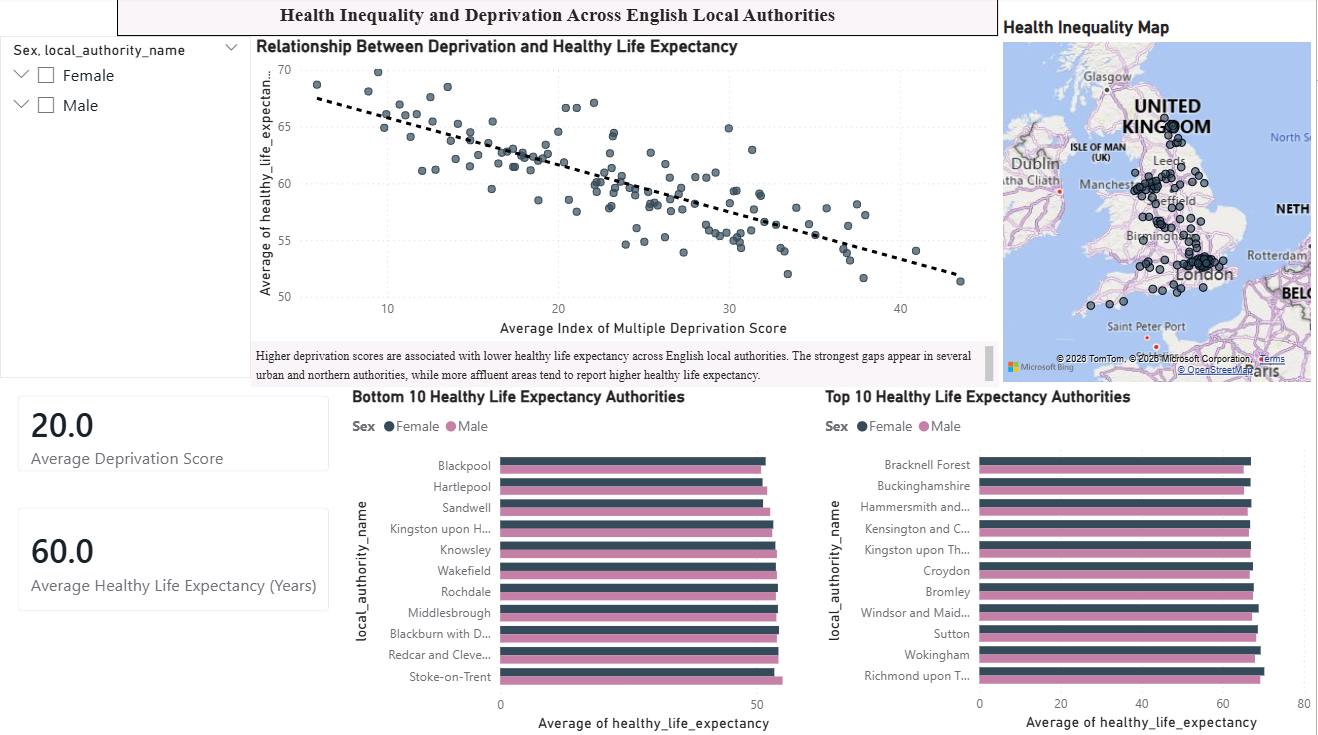

Layout of this report page (visuals, bound fields, positions):
{"tool":"powerbi","page":{"name":"Health Inequality Overview","canvas":[1280,720],"ordinal":0},"visuals":[{"type":"cardVisual","fields":{"Data":["Avg(rpt vw_health_inequality_final.healthy_life_expectancy)"]},"box":[0,479.5,337.5,135.2],"z":0},{"type":"cardVisual","fields":{"Data":["Avg(rpt vw_deprivation_local_authority.avg_imd_score)"]},"box":[0,370.6,337.5,108.9],"z":1000},{"type":"scatterChart","title":"Relationship Between Deprivation and Healthy Life Expectancy","fields":{"X":["rpt vw_deprivation_local_authority.avg_imd_score"],"Y":["Avg(rpt vw_health_inequality_final.healthy_life_expectancy)"]},"box":[244.1,37.9,726.6,296.7],"z":2000},{"type":"clusteredBarChart","title":"Bottom 10 Healthy Life Expectancy Authorities","fields":{"Category":["rpt vw_health_inequality_final.local_authority_name"],"Y":["Avg(rpt vw_health_inequality_final.healthy_life_expectancy)"],"Series":["rpt vw_health_inequality_final.Sex"]},"box":[337.5,379.3,460.1,340.4],"z":3000},{"type":"clusteredBarChart","title":"Top 10 Healthy Life Expectancy Authorities","fields":{"Category":["rpt vw_health_inequality_final.local_authority_name"],"Y":["Avg(rpt vw_health_inequality_final.healthy_life_expectancy)"],"Series":["rpt vw_health_inequality_final.Sex"]},"box":[797.6,379.3,482.4,339.5],"z":4000},{"type":"slicer","fields":{"Values":["rpt vw_health_inequality_final.Sex","rpt vw_health_inequality_final.local_authority_name"]},"box":[0,37.9,244.1,332.6],"z":5000},{"type":"map","title":"Health Inequality Map","fields":{"Category":["rpt vw_health_inequality_final.local_authority_name"],"Size":["Sum(rpt vw_health_inequality_final.healthy_life_expectancy)"]},"box":[970.7,19.5,309.3,359.9],"z":6000},{"type":"textbox","box":[113.8,0,856.9,37.9],"z":7000},{"type":"textbox","box":[244.1,334.6,726.6,44.7],"z":8000}]}

Visuals, with their boxes in screenshot pixels (x1, y1, x2, y2), scaled from the page's 1280x720 canvas onto the 1318x735 screenshot:
cardVisual - Avg(rpt vw_health_inequality_final.healthy_life_expectancy): (0,489,348,628)
cardVisual - Avg(rpt vw_deprivation_local_authority.avg_imd_score): (0,378,348,489)
"Relationship Between Deprivation and Healthy Life Expectancy" scatterChart: (251,39,1000,342)
"Bottom 10 Healthy Life Expectancy Authorities" clusteredBarChart: (348,387,821,734)
"Top 10 Healthy Life Expectancy Authorities" clusteredBarChart: (821,387,1317,734)
slicer - rpt vw_health_inequality_final.Sex x rpt vw_health_inequality_final.local_authority_name: (0,39,251,378)
"Health Inequality Map" map: (1000,20,1317,387)
textbox: (117,0,1000,39)
textbox: (251,342,1000,387)
